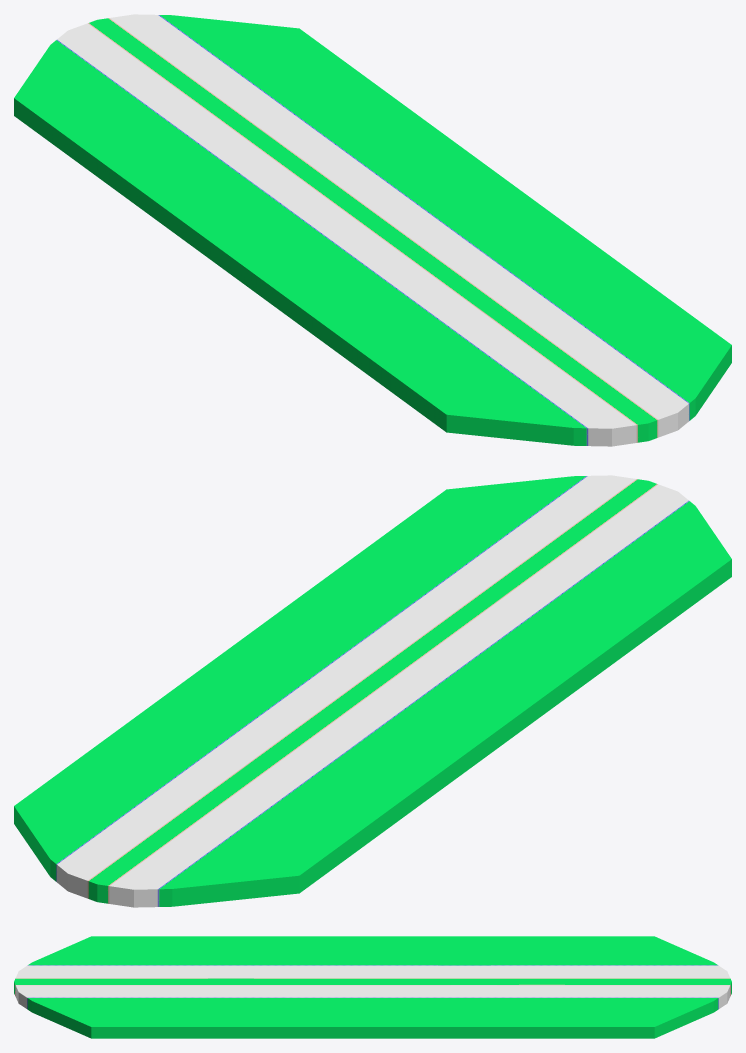
Rendered from Surfboard.glb.
3 renders of one model, top to bottom at view 1: azimuth 30°, elevation 25°; view 2: azimuth 150°, elevation 25°; view 3: azimuth 270°, elevation 25°, orthographic. The views are drawn at different scales.
Parts seen in each view (by area): view 1: Cube.087; view 2: Cube.087; view 3: Cube.087.
Part boxes in pixels (box(x1,y1,x2,y2)): Cube.087: box(14, 14, 731, 446); Cube.087: box(14, 475, 731, 907); Cube.087: box(14, 936, 731, 1038).
Size of the model in its own units: 0.5374 by 0.032 by 1.8.
Materials: 1 (1 with a texture image).
